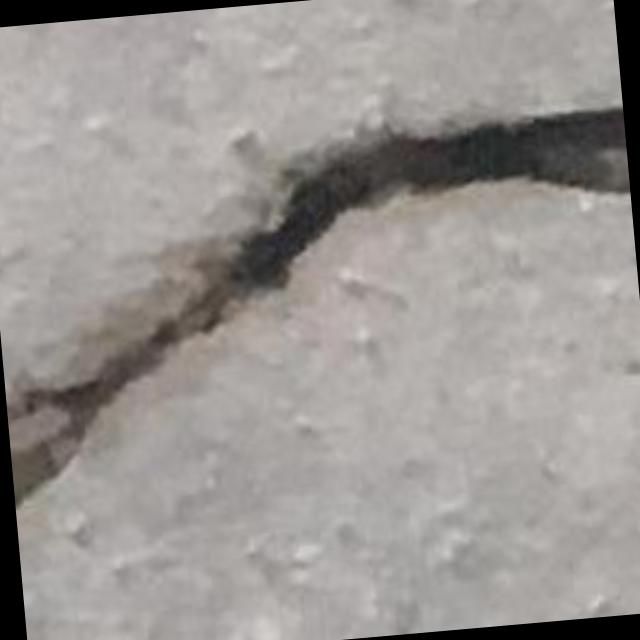crack: (7, 108, 629, 503)
